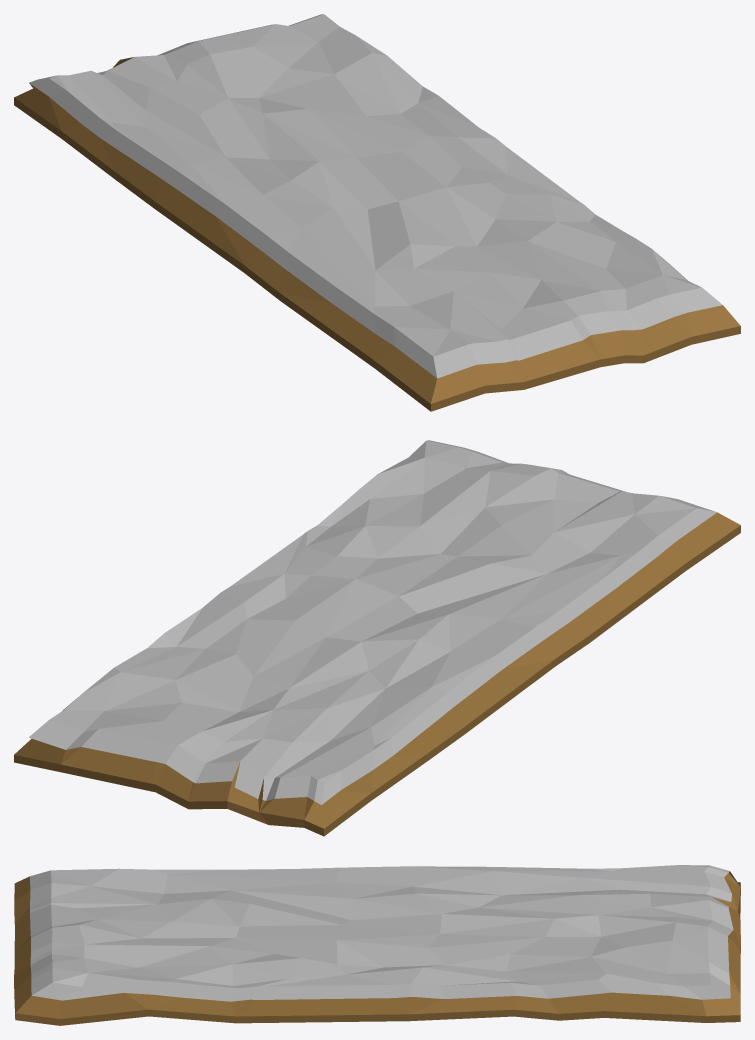
Rendered from Field_1 Winter.fbx.
The picture shows the model from 3 angles, top to bottom: view 1: azimuth 30°, elevation 25°; view 2: azimuth 150°, elevation 25°; view 3: azimuth 270°, elevation 25°; orthographic projection. The views are drawn at different scales.
Visible parts, largest first — view 1: FieldWinter_mesh; view 2: FieldWinter_mesh; view 3: FieldWinter_mesh.
Boxes of the visible parts, <box> form: FieldWinter_mesh: <box>14,14,740,411</box>; FieldWinter_mesh: <box>14,440,740,836</box>; FieldWinter_mesh: <box>14,865,740,1025</box>.
Size of the model in its own units: 571 by 88.08 by 1331.
